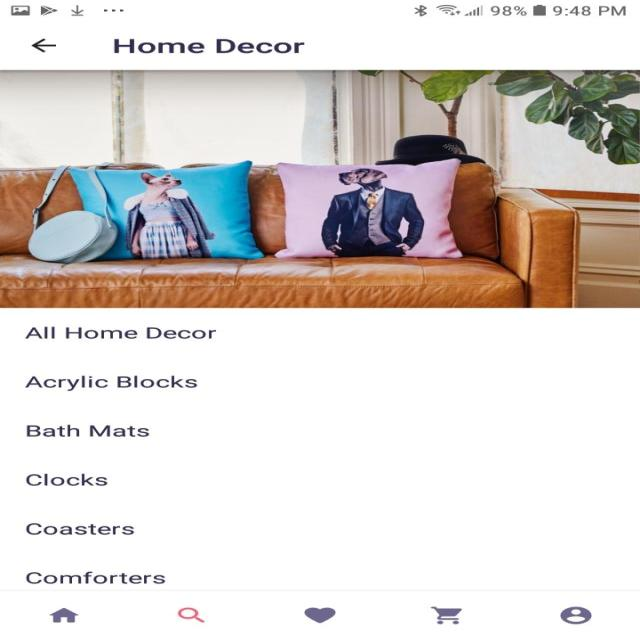Icon: (558, 606, 591, 624), (431, 605, 462, 624), (303, 606, 336, 623), (177, 606, 204, 622), (50, 608, 80, 622), (30, 38, 56, 52)
Image: (0, 70, 639, 308)
Text: (24, 375, 198, 391), (114, 39, 305, 53), (25, 326, 216, 339), (26, 570, 166, 584), (26, 424, 150, 437), (26, 522, 134, 535), (26, 472, 108, 486)
